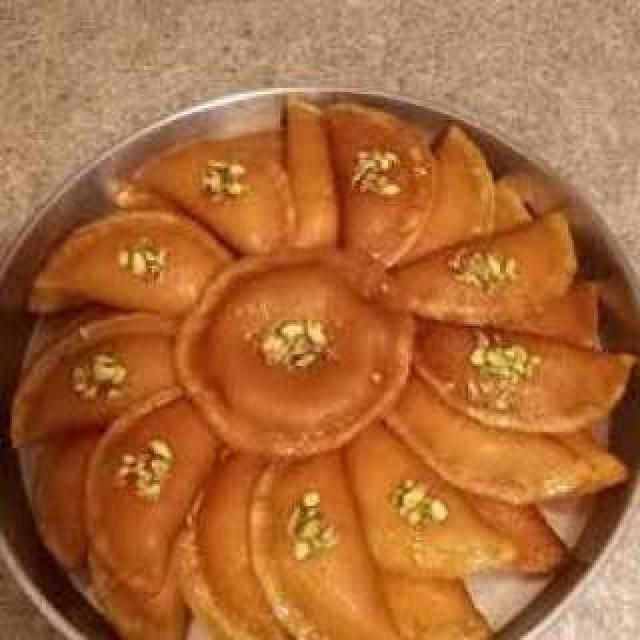ataif: (0, 87, 640, 640)
